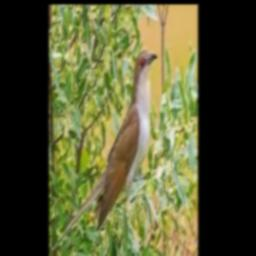Cuckoo: (52, 49, 158, 252)
